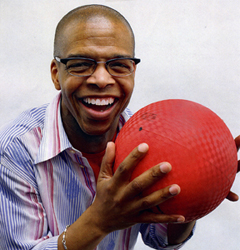red ball: (111, 98, 237, 224)
